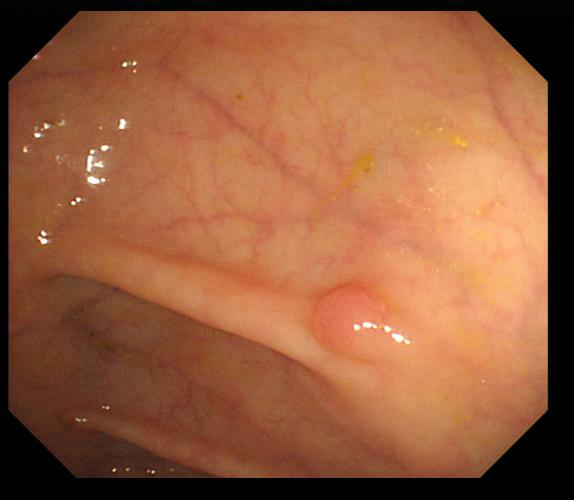polyp: (310, 283, 406, 367)
